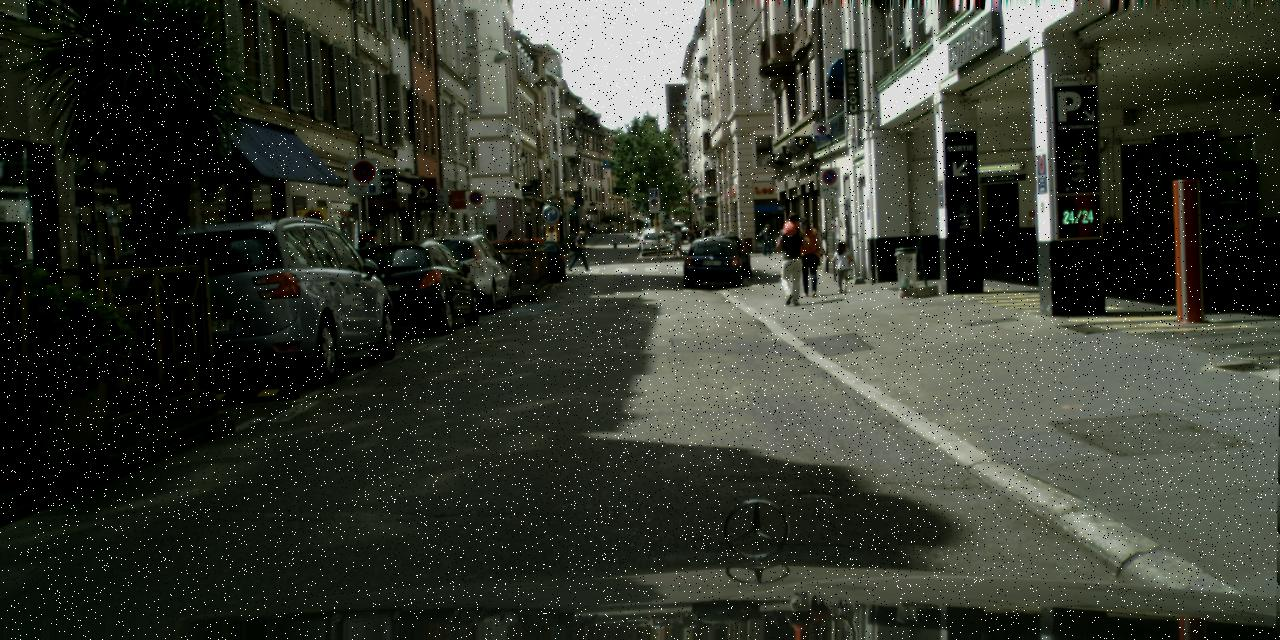ped: (773, 218, 808, 306), (791, 216, 823, 296), (830, 241, 851, 294), (501, 230, 521, 280), (571, 230, 587, 271), (760, 223, 774, 256), (671, 226, 684, 258), (684, 223, 697, 254), (700, 225, 711, 255), (584, 220, 589, 235), (589, 220, 594, 234)
